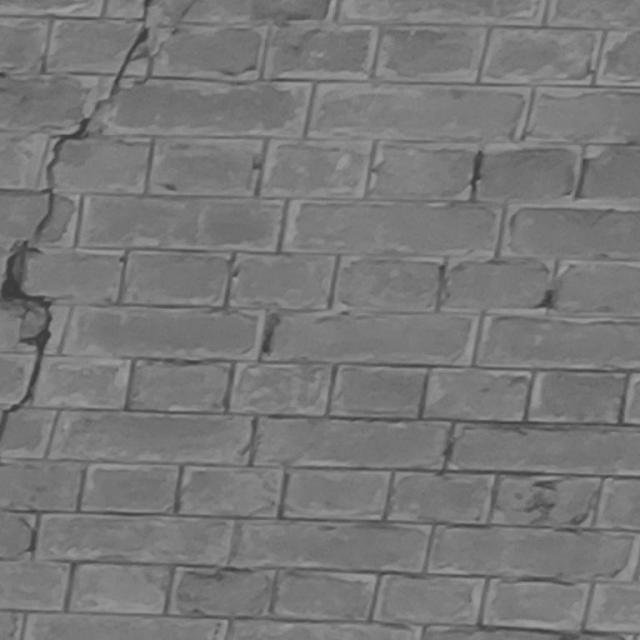crack: (1, 1, 153, 436)
